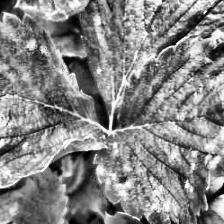Powdery Mildew Leaf: (92, 33, 224, 224), (0, 11, 112, 190), (72, 0, 224, 122)
